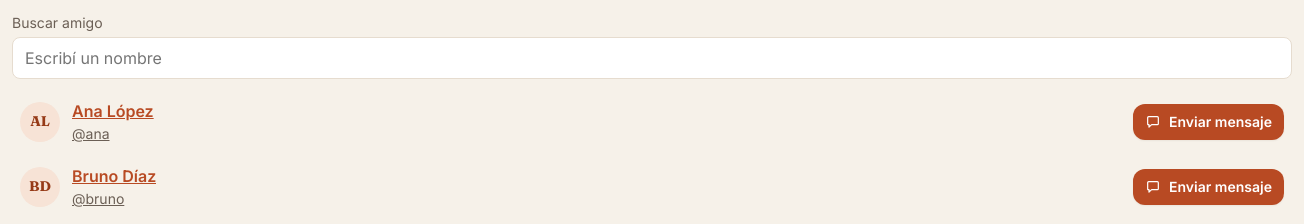
Test case: StartConversationPanel › avisa cuando nadie coincide
The image size is (1304, 224).
Type "zzzz" into the search field with placeholder "Escribí un nombre" at x=652, y=58, box x1=12 y1=37 x2=1292 y2=79
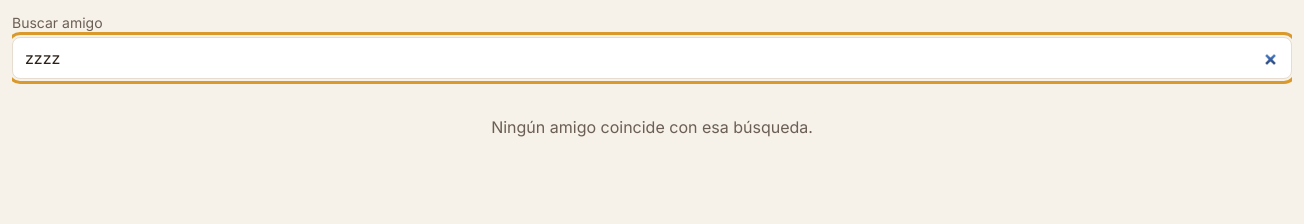
Expected: the text "Ningún amigo coincide con esa búsqueda." is shown, x1=491 y1=117 x2=813 y2=137
